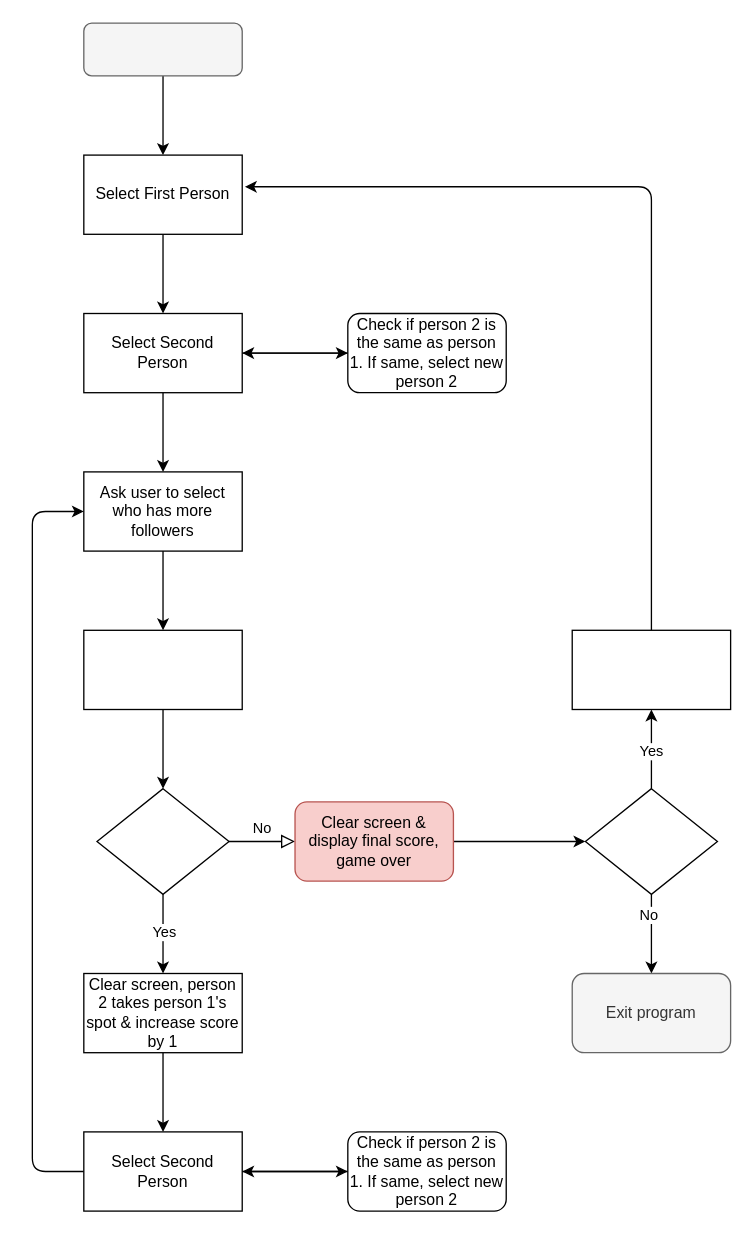
Image size: 754x1234. Some labels were removed from this diagram. Each missing label, with the centre of its shape:
Clear screen & reset score to 0: the point at 651,669
Compare user answer and correct answer: the point at 162,669
Play again?: the point at 650,840
Start Game: the point at 162,49
Users guess correct?: the point at 162,840
